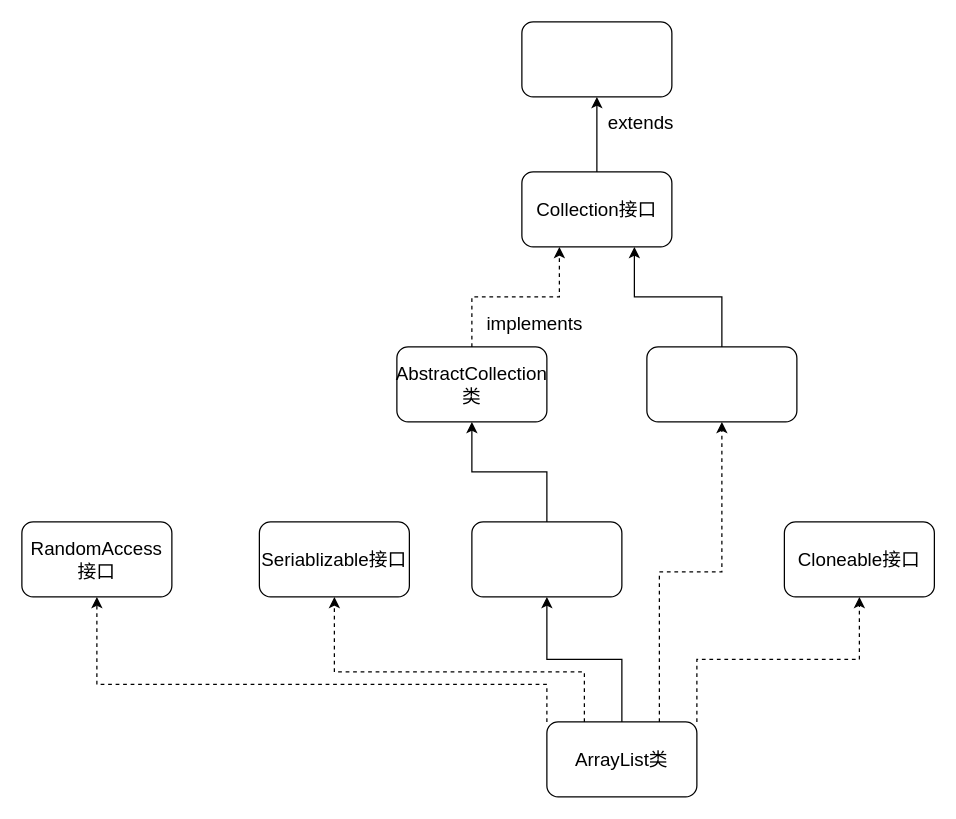
This 956x819 diagram has some shape labels left out. The shapes that lost their labels are listed below. From the top down, each one's centre as x and y in pixels, then its label:
At (596,59): "Iterable接口".
At (721,384): "List接口".
At (546,559): "AbstractList类".
